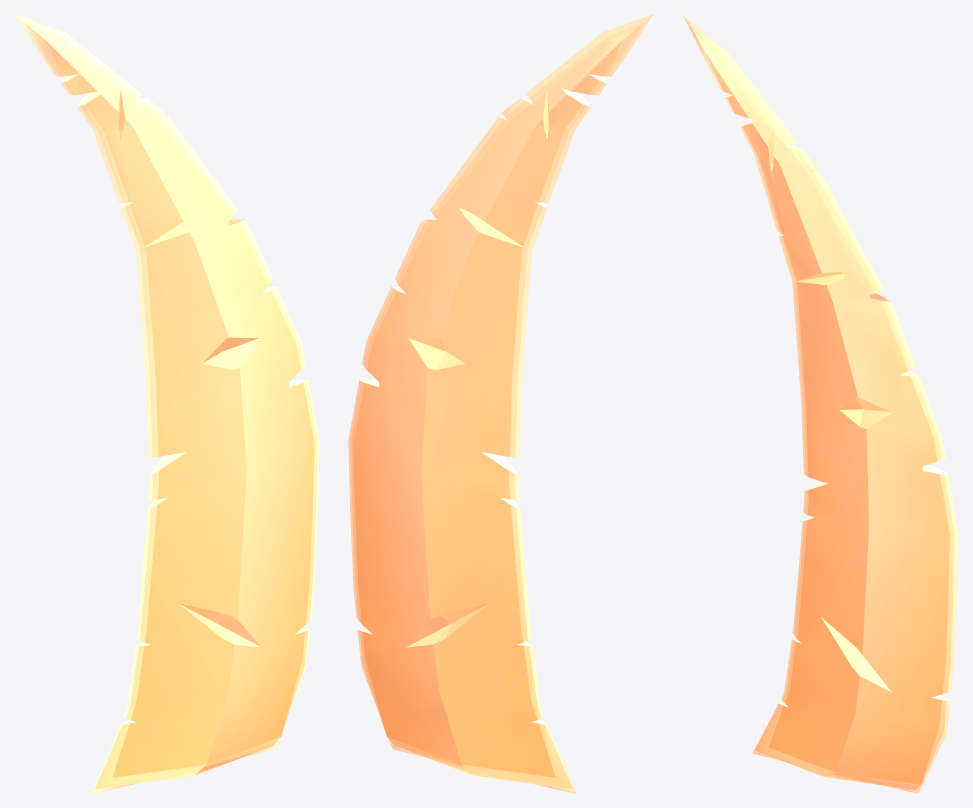
Rendered from wood_blade_scratched_073.glb.
The picture shows the model from 3 angles, left to right: view 1: azimuth 30°, elevation 25°; view 2: azimuth 150°, elevation 25°; view 3: azimuth 330°, elevation 25°; orthographic projection. The views are drawn at different scales.
Parts seen in each view (by area): view 1: wood_blade_scratched.073; view 2: wood_blade_scratched.073; view 3: wood_blade_scratched.073.
Part boxes in pixels (box(x1,y1,x2,y2)): wood_blade_scratched.073: box(14, 14, 319, 793); wood_blade_scratched.073: box(348, 14, 653, 793); wood_blade_scratched.073: box(682, 14, 958, 793).
Bounding box in the file's own units: 4.91 × 12.29 × 0.7262.
Materials: 1 (1 with a texture image).
